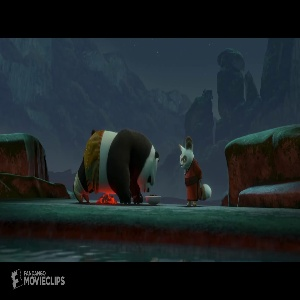po: (68, 125, 160, 206)
shifu: (173, 135, 215, 207)
